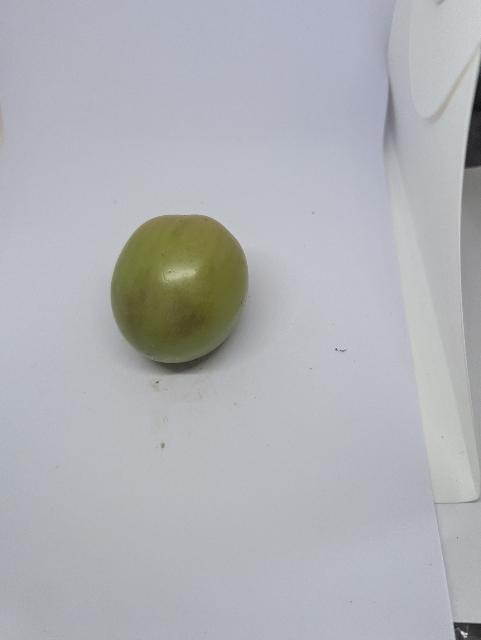green: (89, 198, 265, 380)
